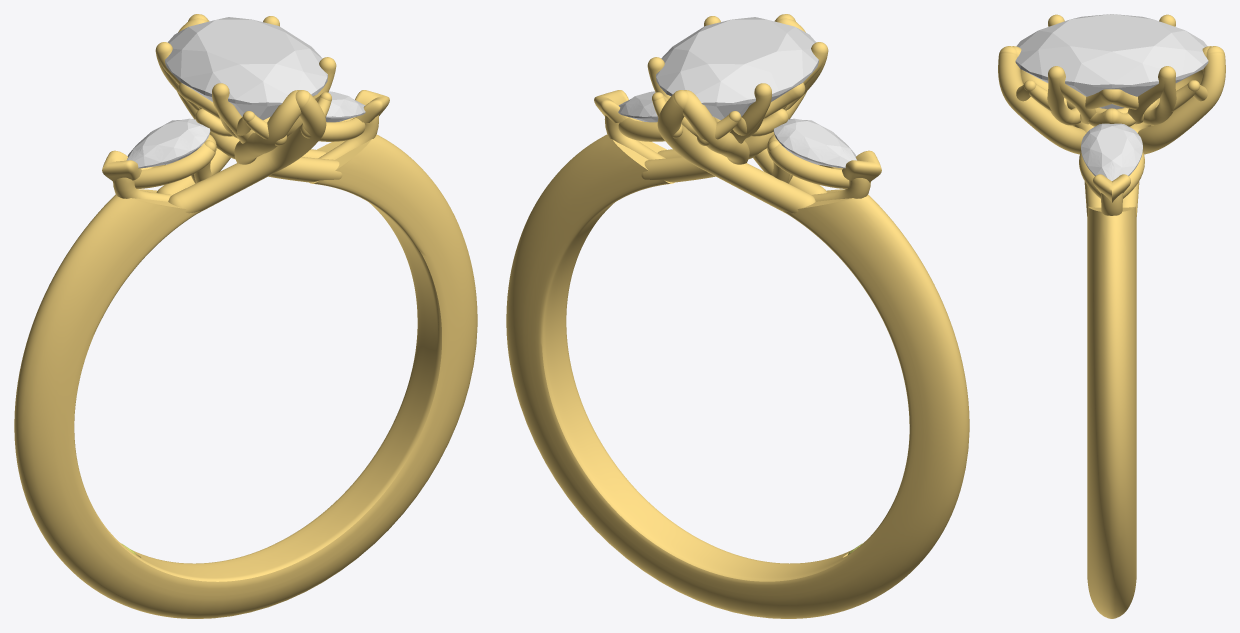
File: LisaYGenglotus_blender.glb
3 views of the same model, side by side, from view 1: azimuth 30°, elevation 25°; view 2: azimuth 150°, elevation 25°; view 3: azimuth 270°, elevation 25° (orthographic).
Visible parts, largest first — view 1: Lisa YG for 3d model, Lisa dia for 3d model, Lisa dia for 3d model.002, Lisa dia for 3d model.001; view 2: Lisa YG for 3d model, Lisa dia for 3d model, Lisa dia for 3d model.002, Lisa dia for 3d model.001; view 3: Lisa YG for 3d model, Lisa dia for 3d model, Lisa dia for 3d model.001.
Boxes of the visible parts, x1,y1,x2,y2 form: Lisa YG for 3d model: (14,14,477,618); Lisa dia for 3d model: (165,17,327,120); Lisa dia for 3d model.002: (126,118,210,168); Lisa dia for 3d model.001: (325,91,365,122); Lisa YG for 3d model: (506,14,969,618); Lisa dia for 3d model: (656,17,818,120); Lisa dia for 3d model.002: (773,118,856,168); Lisa dia for 3d model.001: (618,91,658,122); Lisa YG for 3d model: (998,14,1225,618); Lisa dia for 3d model: (1015,14,1208,109); Lisa dia for 3d model.001: (1081,123,1142,180).
Bounding box in the file's own units: 21.13 × 25.03 × 9.21.
